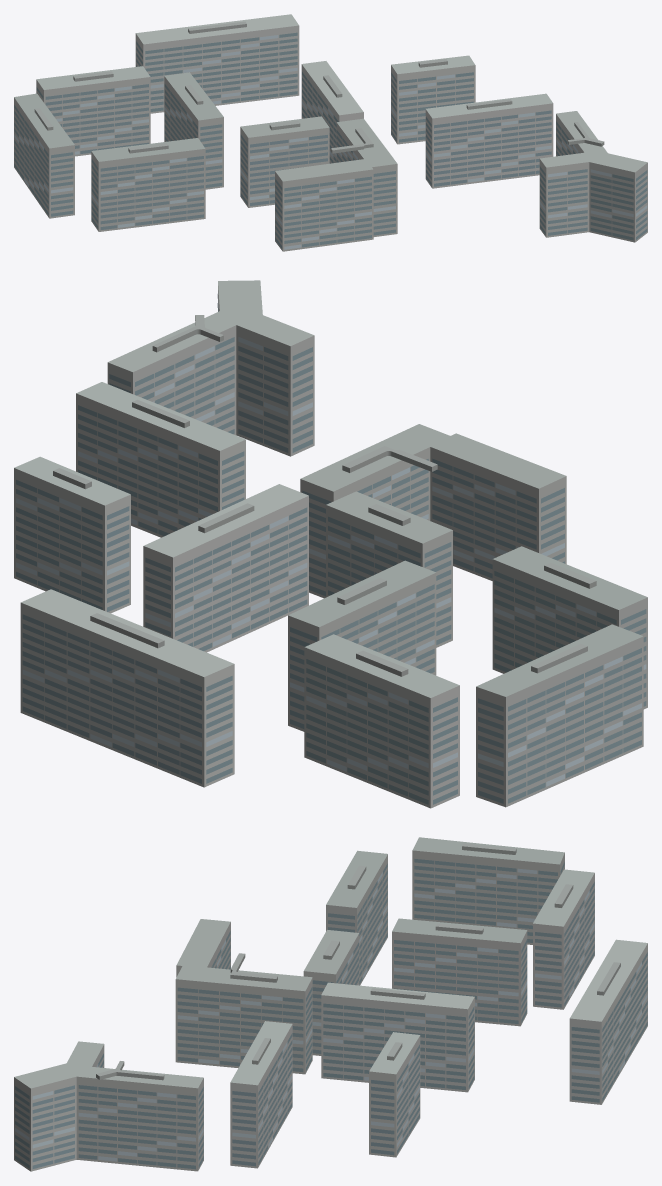
The model's file is apt-a13470101.glb.
3 renders of one model, top to bottom at view 1: azimuth 30°, elevation 25°; view 2: azimuth 150°, elevation 25°; view 3: azimuth 270°, elevation 25°, orthographic. The views are drawn at different scales.
Parts seen in each view (by area): view 1: apt-a13470101; view 2: apt-a13470101; view 3: apt-a13470101.
Part boxes in pixels (x1,y1,x2,y2): apt-a13470101: (14,14,647,251); apt-a13470101: (14,280,647,808); apt-a13470101: (14,837,647,1171).
Size of the model in its own units: 237 by 38.25 by 253.
